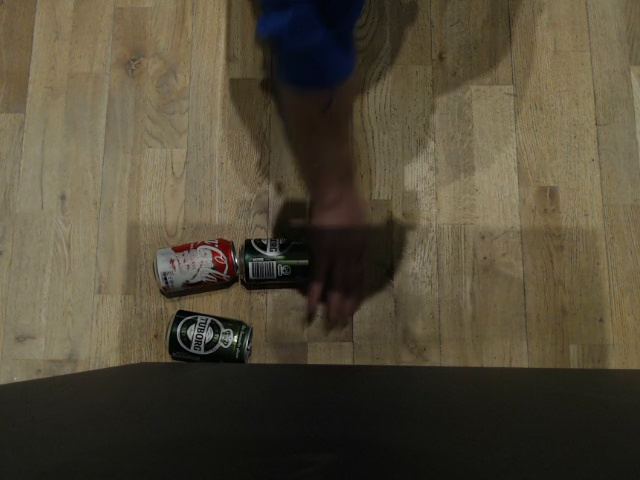beer: (160, 310, 255, 364)
cola: (131, 232, 224, 294)
